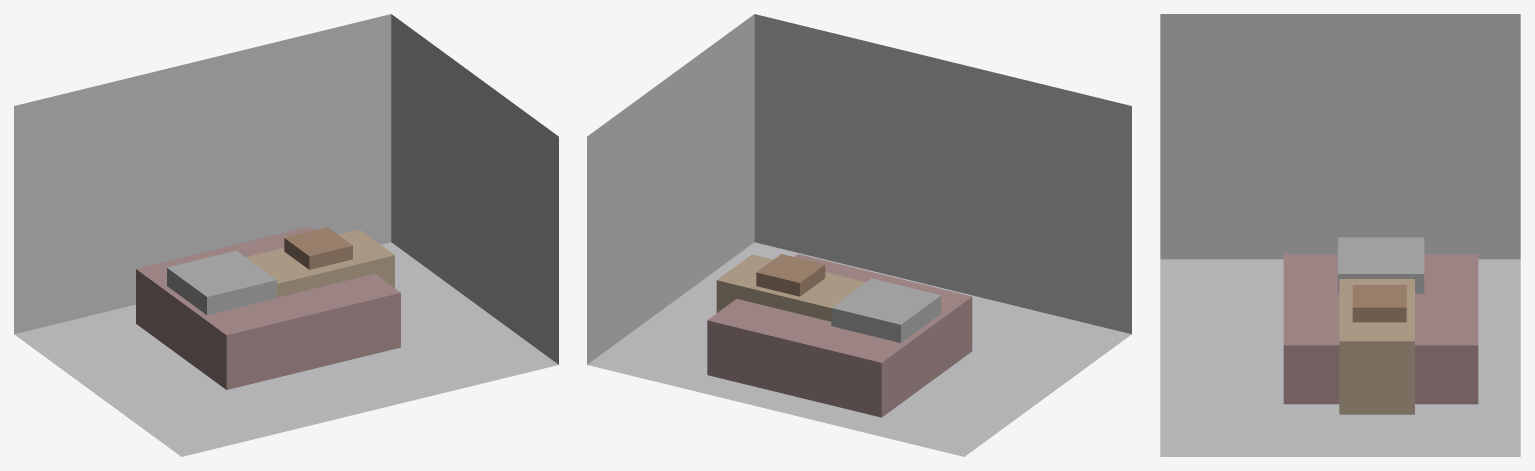
File: optimised_layout.glb
The picture shows the model from 3 angles, left to right: view 1: azimuth 30°, elevation 25°; view 2: azimuth 150°, elevation 25°; view 3: azimuth 270°, elevation 25°; orthographic projection. The views are drawn at different scales.
Parts seen in each view (by area): view 1: room, bed, wardrobe, desk, chair; view 2: room, bed, wardrobe, desk, chair; view 3: room, bed, desk, wardrobe, chair.
Boxes of the visible parts, left/top/right/bottom form: room: left=14, top=14, right=558, bottom=456; bed: left=136, top=226, right=400, bottom=389; wardrobe: left=167, top=250, right=276, bottom=315; desk: left=246, top=229, right=394, bottom=297; chair: left=284, top=227, right=352, bottom=269; room: left=587, top=14, right=1131, bottom=456; bed: left=707, top=254, right=972, bottom=417; wardrobe: left=831, top=278, right=941, bottom=342; desk: left=716, top=254, right=865, bottom=321; chair: left=756, top=254, right=825, bottom=296; room: left=1160, top=14, right=1520, bottom=456; bed: left=1283, top=254, right=1478, bottom=404; desk: left=1339, top=279, right=1414, bottom=414; wardrobe: left=1338, top=237, right=1424, bottom=293; chair: left=1352, top=285, right=1406, bottom=322.
Bounding box in the file's own units: 4.32 × 2.5 × 3.33.
